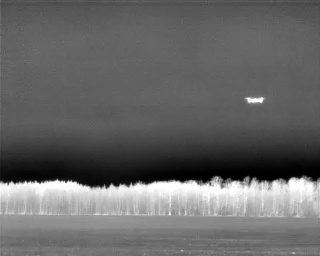DRONE: (241, 91, 268, 109)
